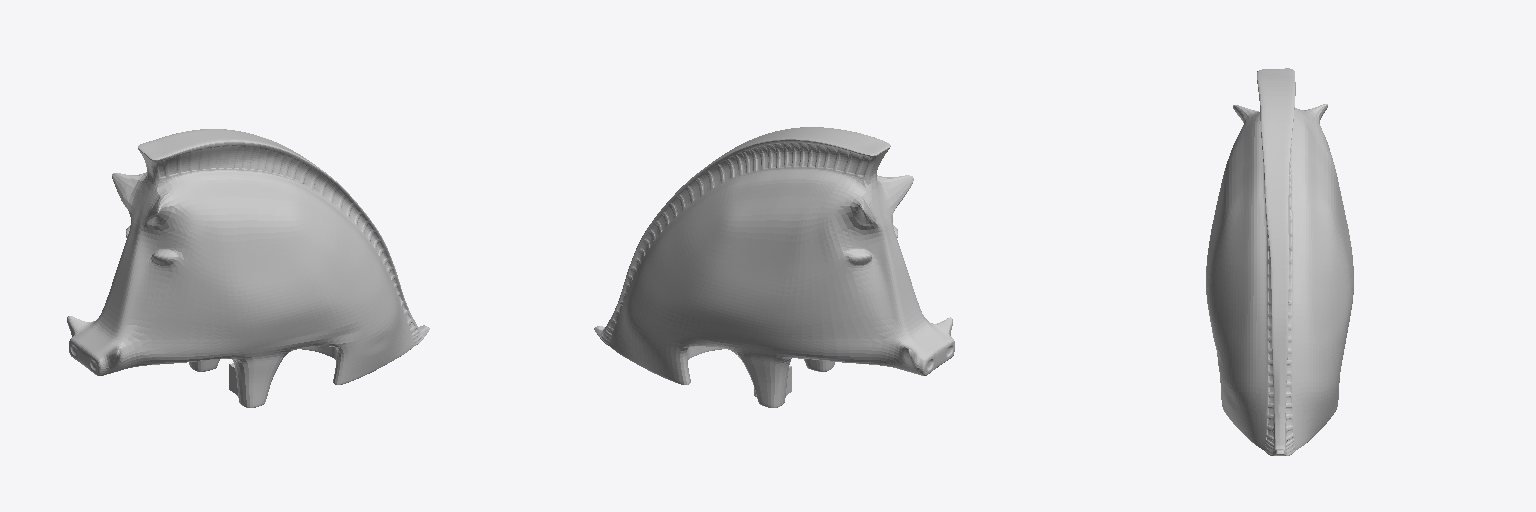
Rendered from Boar.obj.
3 renders of one model, left to right at view 1: azimuth 30°, elevation 25°; view 2: azimuth 150°, elevation 25°; view 3: azimuth 270°, elevation 25°, orthographic.
Visible parts, largest first — view 1: Boar; view 2: Boar; view 3: Boar.
Part boxes in pixels (x1,y1,x2,y2): Boar: (67,129,429,407); Boar: (594,127,954,407); Boar: (1206,68,1353,455).
Bounding box in the file's own units: 28.45 × 21.33 × 10.59.